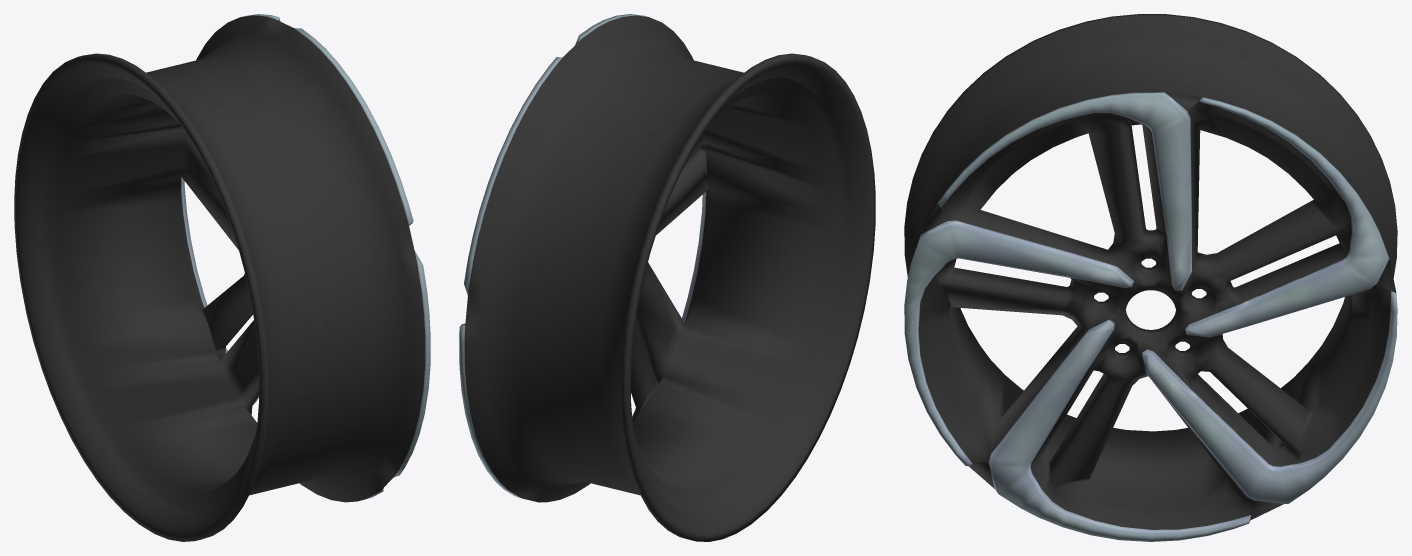
3 renders of one model, left to right at view 1: azimuth 30°, elevation 25°; view 2: azimuth 150°, elevation 25°; view 3: azimuth 270°, elevation 25°, orthographic.
Visible parts, largest first — view 1: Wheel.04.Low.Poly; view 2: Wheel.04.Low.Poly; view 3: Wheel.04.Low.Poly.
Boxes of the visible parts, x1,y1,x2,y2 form: Wheel.04.Low.Poly: [14, 14, 430, 541]; Wheel.04.Low.Poly: [459, 14, 875, 541]; Wheel.04.Low.Poly: [904, 14, 1397, 541].
Bounding box in the file's own units: 72.5 × 187 × 187.
Materials: 1 (1 with a texture image).
